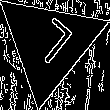L_SW: (22, 14, 77, 73)
